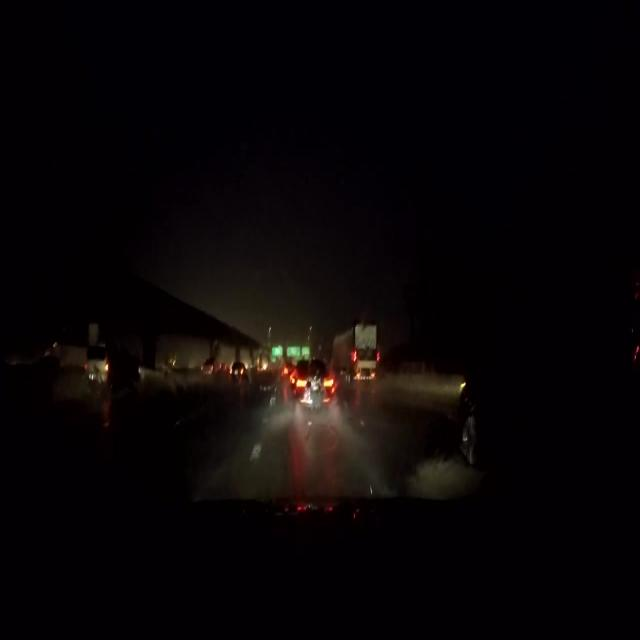Car: (81, 338, 141, 387), (288, 353, 331, 415)
